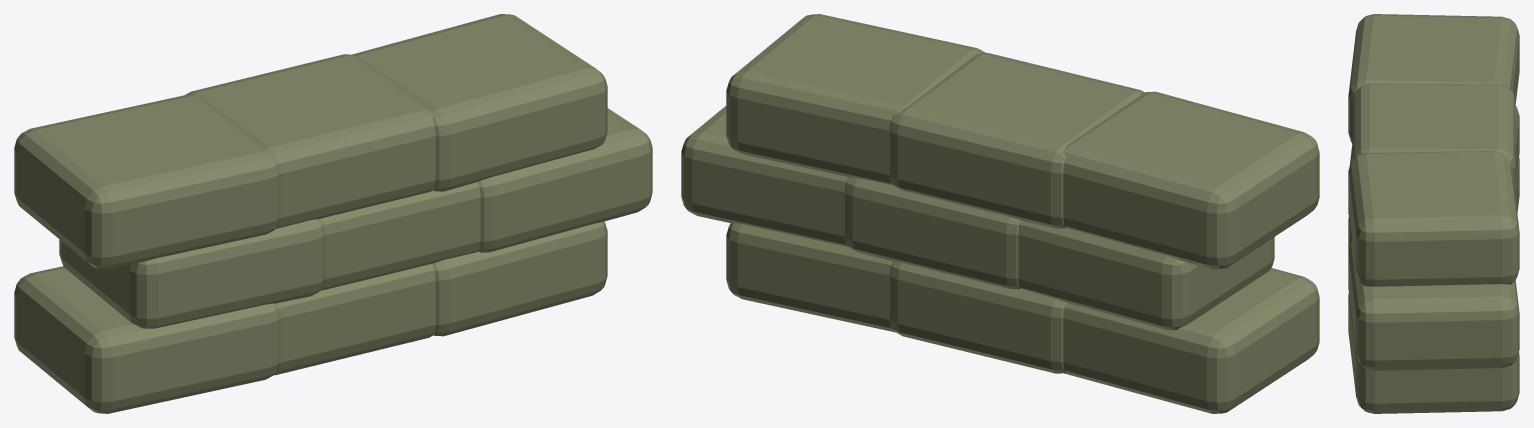
File: sandbags.glb
3 views of the same model, side by side, from view 1: azimuth 30°, elevation 25°; view 2: azimuth 150°, elevation 25°; view 3: azimuth 270°, elevation 25° (orthographic). The views are drawn at different scales.
Parts seen in each view (by area): view 1: sandbags; view 2: sandbags; view 3: sandbags.
Boxes of the visible parts, x1,y1,x2,y2 form: sandbags: (14,14,652,413); sandbags: (681,14,1319,413); sandbags: (1348,14,1519,413).
Bounding box in the file's own units: 1.88 × 0.72 × 0.5748.
